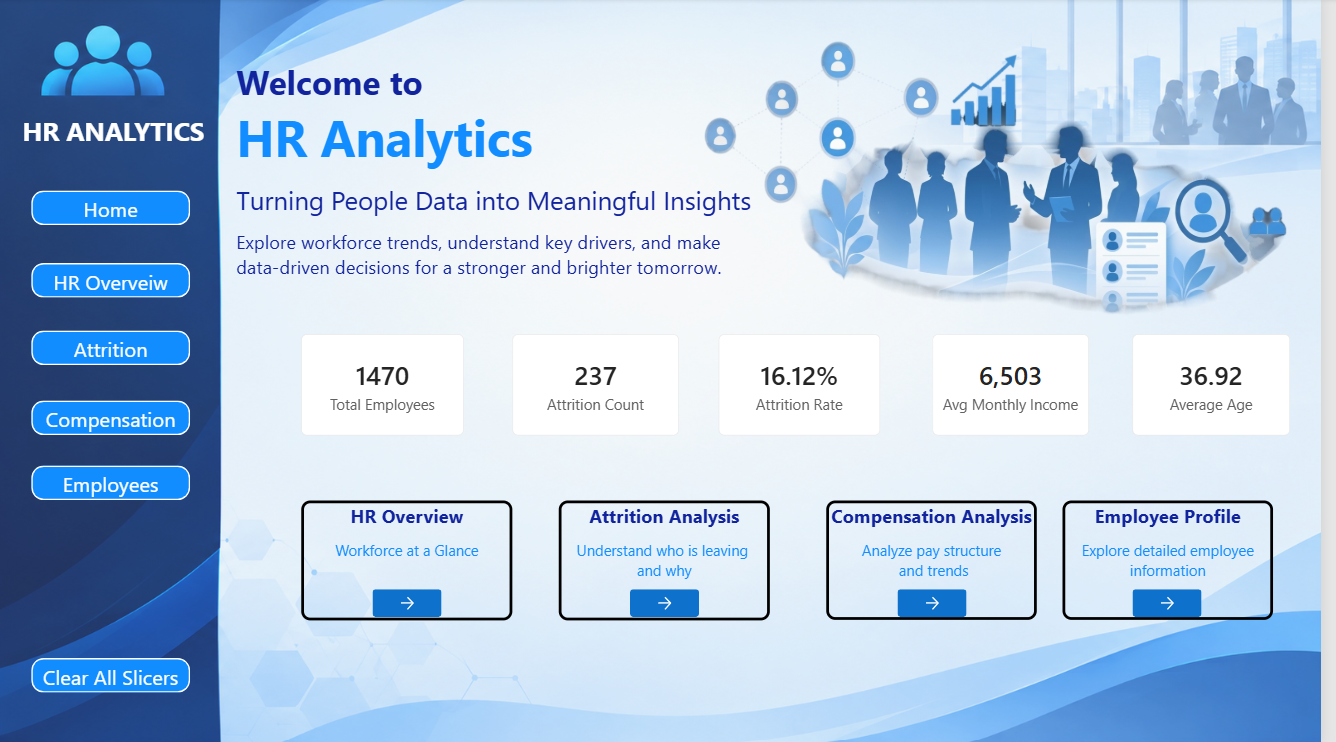

Layout of this report page (visuals, bound fields, positions):
{"tool":"powerbi","page":{"name":"Home","canvas":[1920,1080],"ordinal":0},"visuals":[{"type":"textbox","box":[39.8,166.5,273.3,63.3],"z":0,"group":"g1"},{"type":"group","id":"g1","title":"Group 3","box":[39.8,166.5,273.3,839],"z":0},{"type":"group","id":"g2","title":"Group 1","box":[443.4,486.8,1431.4,146.6],"z":1000},{"type":"textbox","box":[349.3,88.7,781.8,361.9],"z":2000},{"type":"textbox","box":[443.4,727.5,305.8,173.7],"z":3000},{"type":"actionButton","box":[546.5,856,100,40],"z":4000},{"type":"textbox","box":[1203,147,228,304],"z":5000},{"type":"textbox","box":[816.2,727.5,305.8,173.7],"z":6000},{"type":"card","fields":{"Values":["Measure.Total Employees"]},"box":[443.4,486.8,235.3,146.6],"z":7000,"group":"g2"},{"type":"actionButton","box":[919.3,856,100,40],"z":7000},{"type":"card","fields":{"Values":["Measure.Average Monthly Income"]},"box":[1357.3,486.8,226.2,146.6],"z":8000,"group":"g2"},{"type":"textbox","box":[1203.4,727.5,305,173],"z":8000},{"type":"actionButton","box":[52.5,278.7,230,50],"z":9000,"group":"g1"},{"type":"card","fields":{"Values":["Measure.Attrition Rate"]},"box":[1047.8,486.8,233.4,146.6],"z":9000,"group":"g2"},{"type":"actionButton","box":[1306.6,856,100,40],"z":9000},{"type":"textbox","box":[1545.5,727.5,305,173],"z":9001},{"type":"actionButton","box":[1646.8,856,100,40],"z":9002},{"type":"image","box":[924.7,16.3,960.9,450.6],"z":9003},{"type":"actionButton","box":[52.5,383.7,230,50],"z":10000,"group":"g1"},{"type":"card","fields":{"Values":["Measure.Attrition Count"]},"box":[749.2,486.8,240.7,146.6],"z":10000,"group":"g2"},{"type":"actionButton","box":[52.5,481.4,230,50],"z":11000,"group":"g1"},{"type":"card","fields":{"Values":["Measure.Average age"]},"box":[1646.8,486.8,228,146.6],"z":11000,"group":"g2"},{"type":"actionButton","box":[52.5,582.7,230,50],"z":12000,"group":"g1"},{"type":"actionButton","box":[52.5,955.5,230,50],"z":13000,"group":"g1"},{"type":"actionButton","box":[52.5,676.8,230,50],"z":14000,"group":"g1"}]}

Visuals, with their boxes in screenshot pixels (x1, y1, x2, y2), scaled from the page's 1920x1080 canvas onto the 1336x742 screenshot:
textbox: [left=28, top=114, right=218, bottom=158]
"Group 3" group: [left=28, top=114, right=218, bottom=691]
"Group 1" group: [left=309, top=334, right=1305, bottom=435]
textbox: [left=243, top=61, right=787, bottom=310]
textbox: [left=309, top=500, right=521, bottom=619]
actionButton: [left=380, top=588, right=450, bottom=616]
textbox: [left=837, top=101, right=996, bottom=310]
textbox: [left=568, top=500, right=781, bottom=619]
card - Measure.Total Employees: [left=309, top=334, right=472, bottom=435]
actionButton: [left=640, top=588, right=709, bottom=616]
card - Measure.Average Monthly Income: [left=944, top=334, right=1102, bottom=435]
textbox: [left=837, top=500, right=1050, bottom=619]
actionButton: [left=37, top=191, right=197, bottom=226]
card - Measure.Attrition Rate: [left=729, top=334, right=892, bottom=435]
actionButton: [left=909, top=588, right=979, bottom=616]
textbox: [left=1075, top=500, right=1288, bottom=619]
actionButton: [left=1146, top=588, right=1215, bottom=616]
image: [left=643, top=11, right=1312, bottom=321]
actionButton: [left=37, top=264, right=197, bottom=298]
card - Measure.Attrition Count: [left=521, top=334, right=689, bottom=435]
actionButton: [left=37, top=331, right=197, bottom=365]
card - Measure.Average age: [left=1146, top=334, right=1305, bottom=435]
actionButton: [left=37, top=400, right=197, bottom=435]
actionButton: [left=37, top=656, right=197, bottom=691]
actionButton: [left=37, top=465, right=197, bottom=499]
